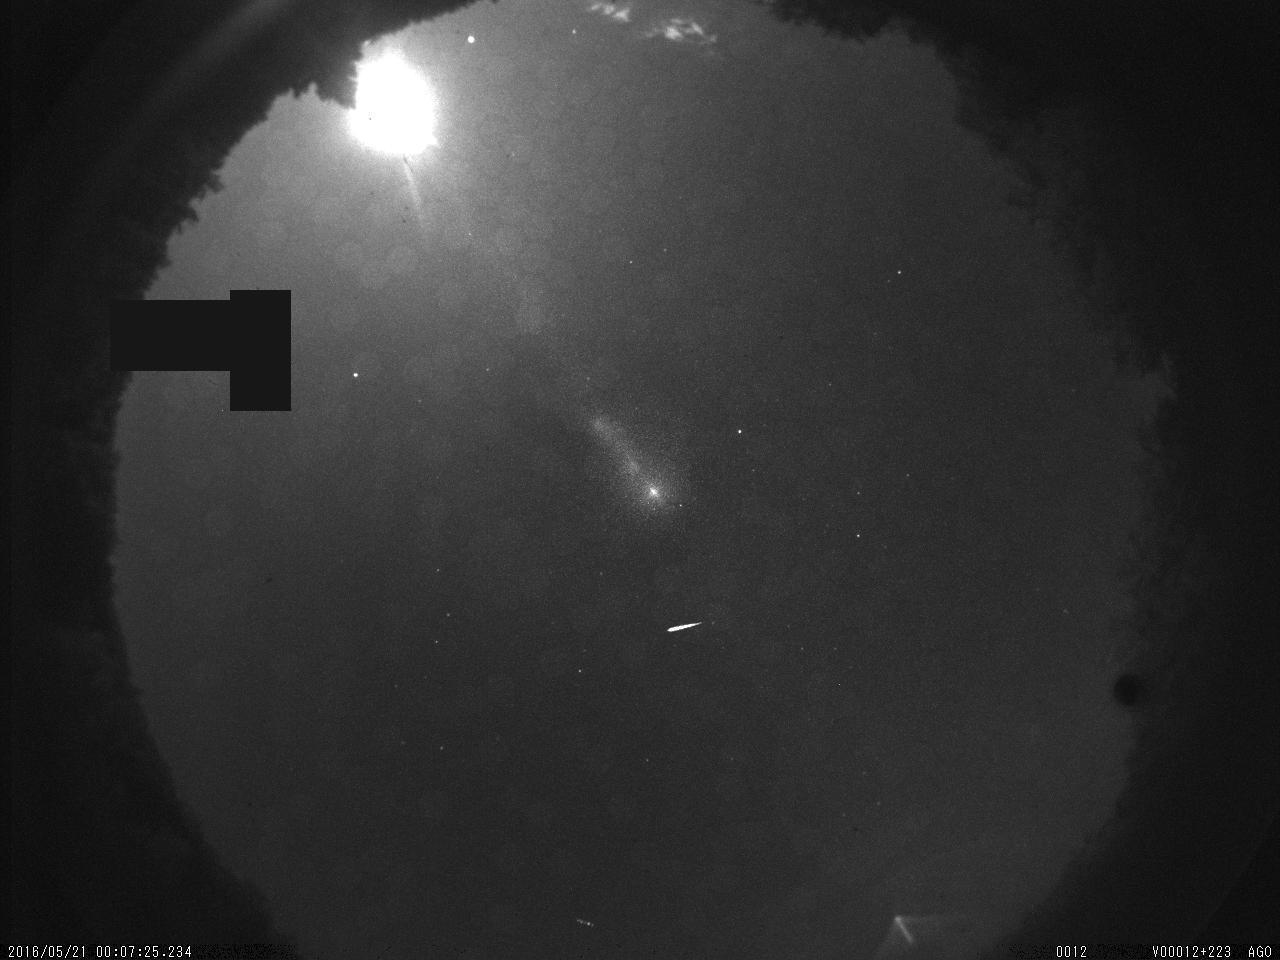Meteor: (660, 614, 709, 640)
